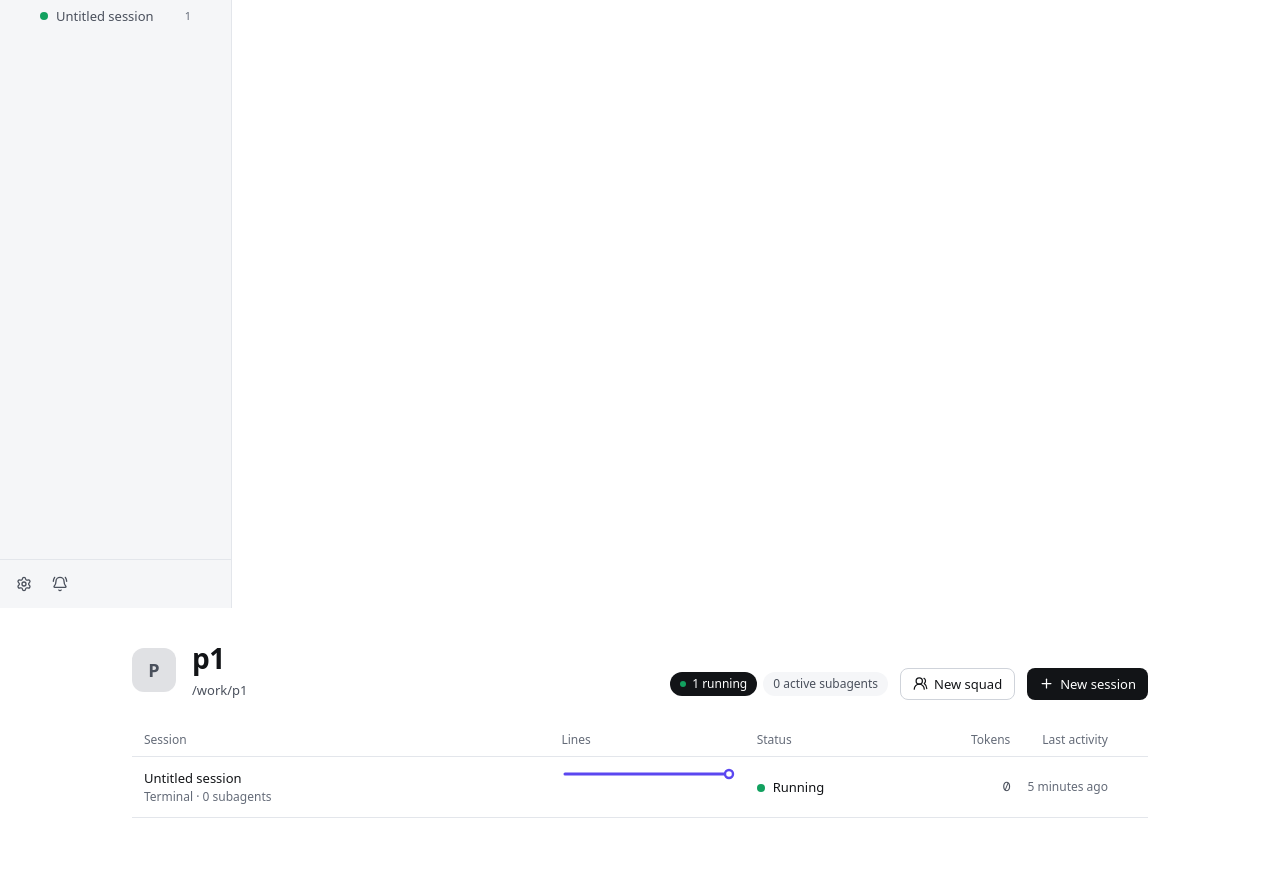
Scenario: project appearance › each group is a radio group, so the arrow keys move within it
(page scrolled)
Step 1. Click the button named "Change icon and colour" → point(154, 670), box x1=132 y1=648 x2=176 y2=692
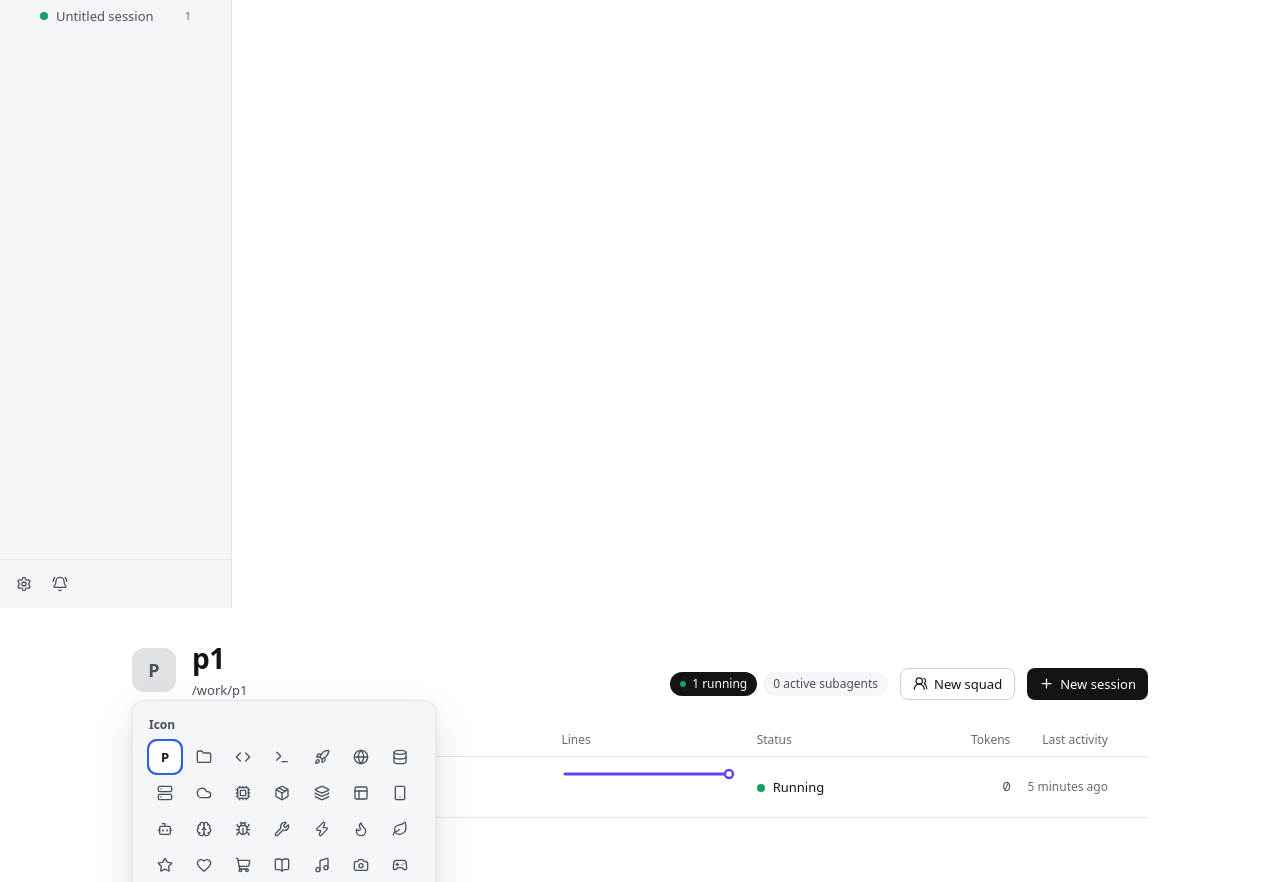
expect the radio button named "Initial" is checked: met, box x1=149 y1=741 x2=181 y2=773
